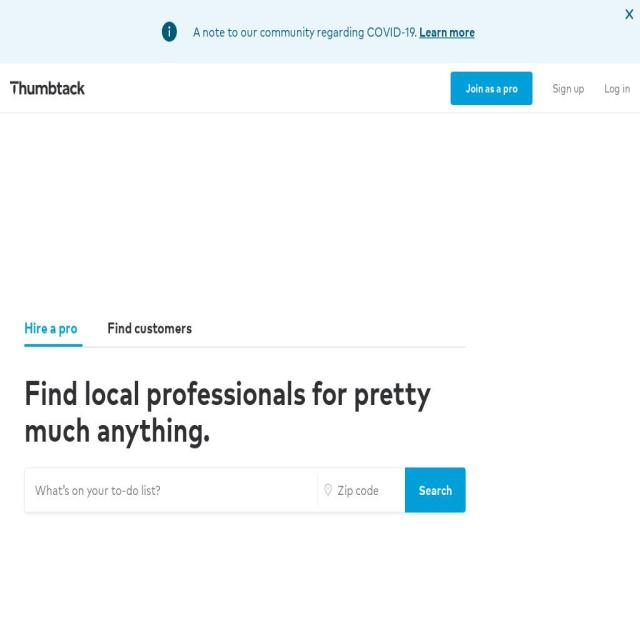button: (0, 64, 95, 112), (102, 311, 197, 344), (404, 467, 466, 512), (450, 71, 532, 105), (19, 311, 82, 344), (419, 22, 475, 42), (624, 6, 635, 22)
field: (25, 468, 317, 512), (317, 468, 405, 512)
heading: (24, 373, 466, 448)
image: (10, 81, 85, 95), (160, 20, 178, 43), (322, 482, 334, 498), (624, 6, 635, 22)
text: (192, 23, 417, 40), (552, 63, 584, 114), (466, 73, 518, 104), (604, 63, 630, 114)
